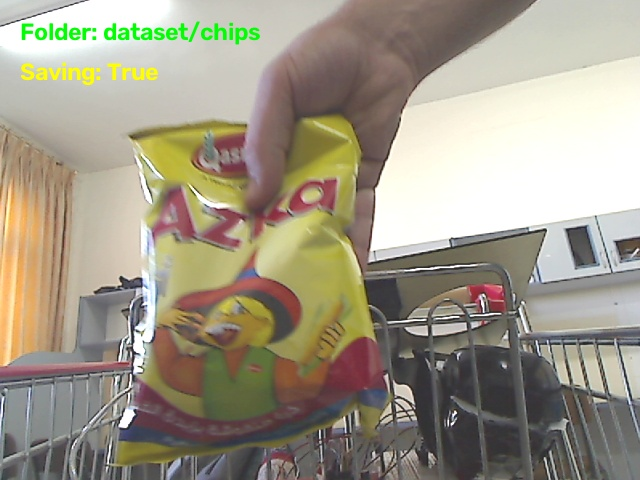chips: (116, 116, 387, 464)
